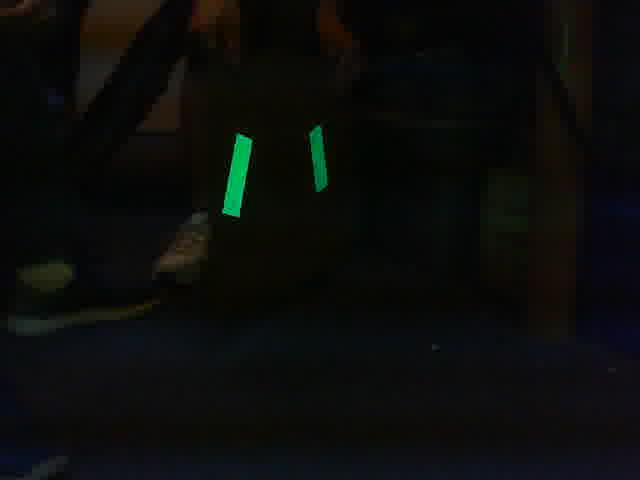target: (219, 122, 330, 219)
